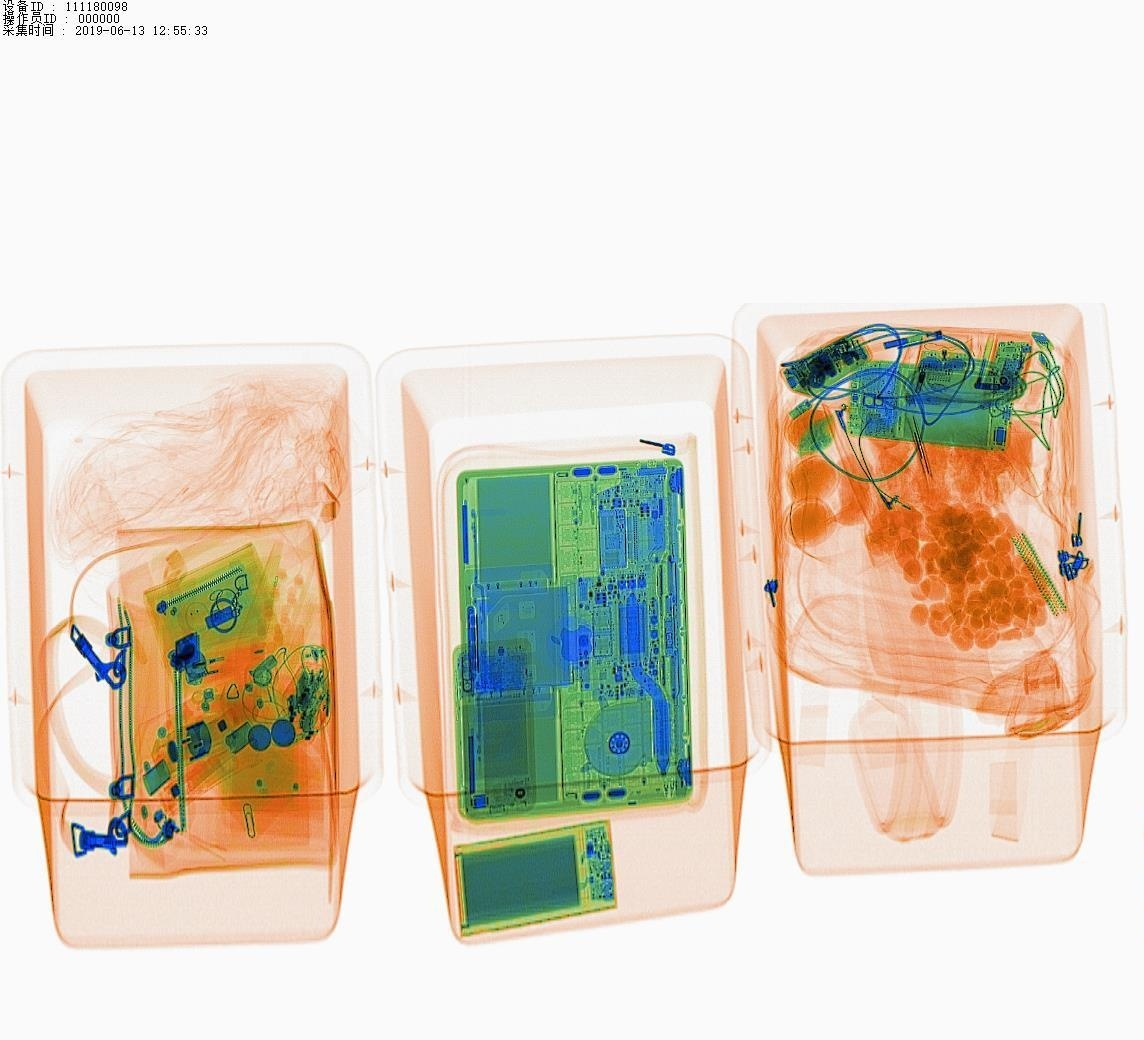NonmetallicFire: (153, 619, 296, 704)
